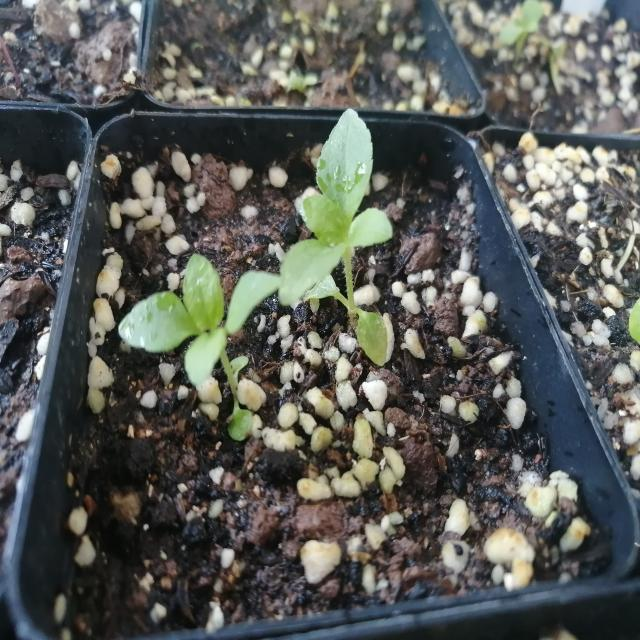billygoat_weed: (270, 107, 422, 380), (120, 241, 300, 414)
